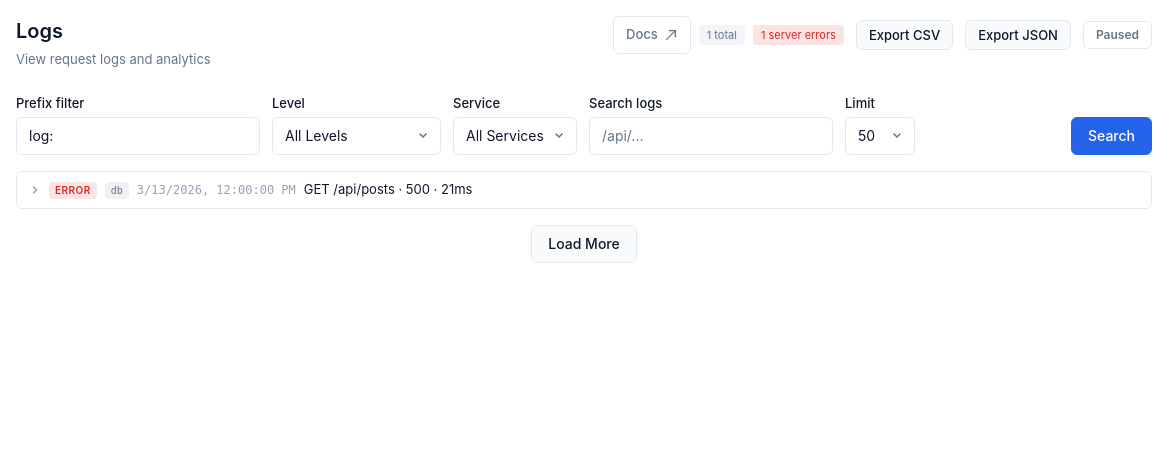
it: logs page › loads, expands, and paginates log entries
Expected: the text "1 total" is shown, x1=699 y1=24 x2=745 y2=45
Expected: the text "1 server errors" is shown, x1=753 y1=24 x2=844 y2=45
Click the button "ERROR db 3/13/2026, 12:00:00 PM GET /api/posts · 500 · 21ms".
click(73, 190)  # box x1=17 y1=172 x2=1151 y2=208
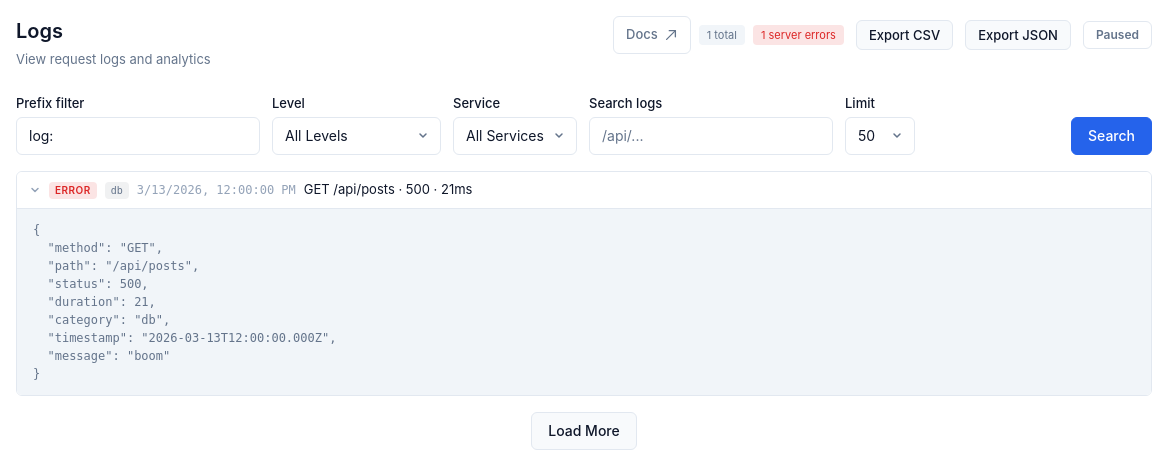
Result: the text "\"status\": 500" is shown at x1=33 y1=223 x2=336 y2=381
Click the button "Load More".
click(584, 431)  # box x1=531 y1=412 x2=637 y2=450
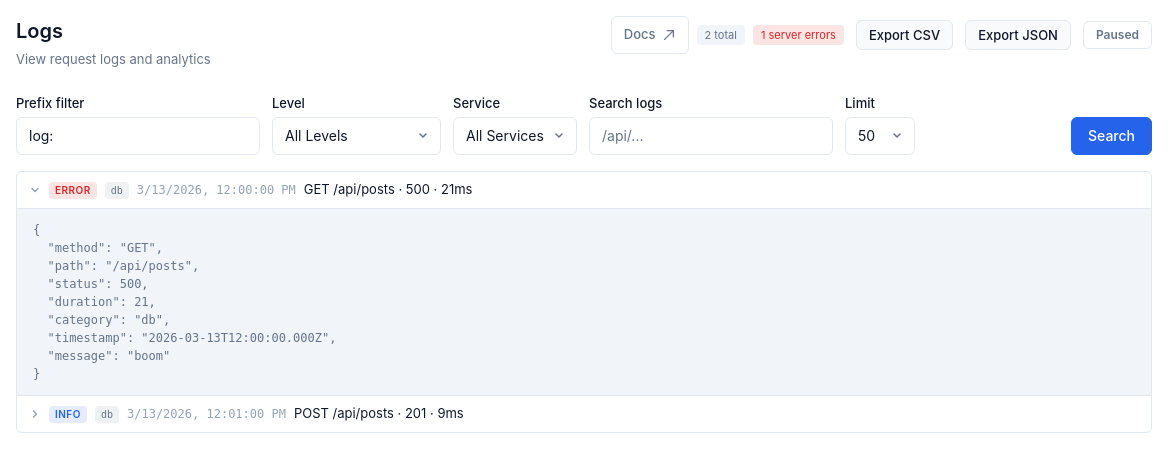
Result: the text "2 total" is shown at x1=696 y1=24 x2=745 y2=45
Result: the button "INFO db 3/13/2026, 12:01:00 PM POST /api/posts · 201 · 9ms" is shown at x1=17 y1=396 x2=1151 y2=432
